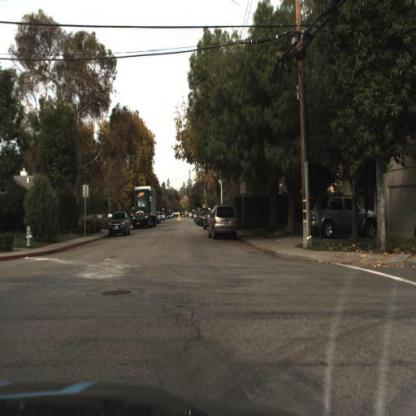car: (311, 199, 377, 239), (209, 201, 236, 244), (208, 204, 239, 241), (109, 209, 131, 237), (107, 212, 132, 236), (204, 212, 214, 232)
truck: (130, 185, 157, 233), (133, 184, 159, 231)
